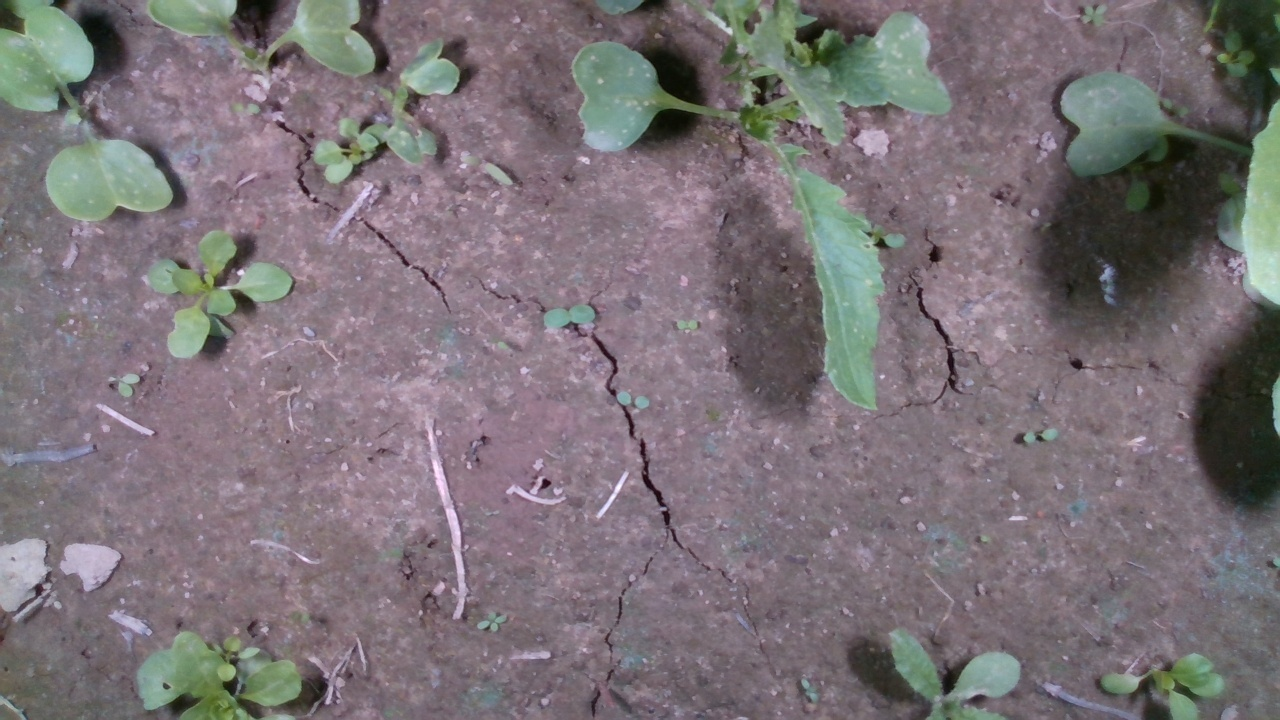weed: (1214, 29, 1257, 80), (541, 302, 596, 329), (103, 372, 144, 398), (474, 607, 508, 634), (1078, 0, 1109, 27), (614, 391, 651, 411), (1022, 425, 1059, 445), (675, 317, 701, 332)
